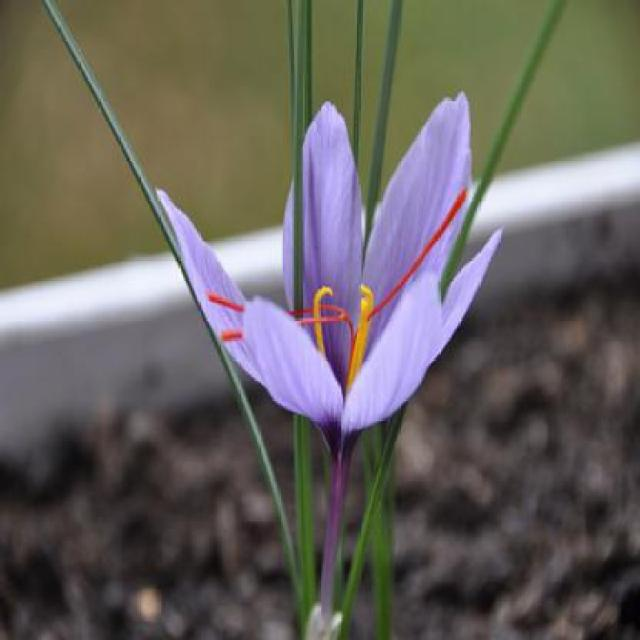Flower: (150, 84, 513, 458)
stigma: (372, 187, 471, 313), (202, 290, 244, 312), (215, 322, 242, 342)
